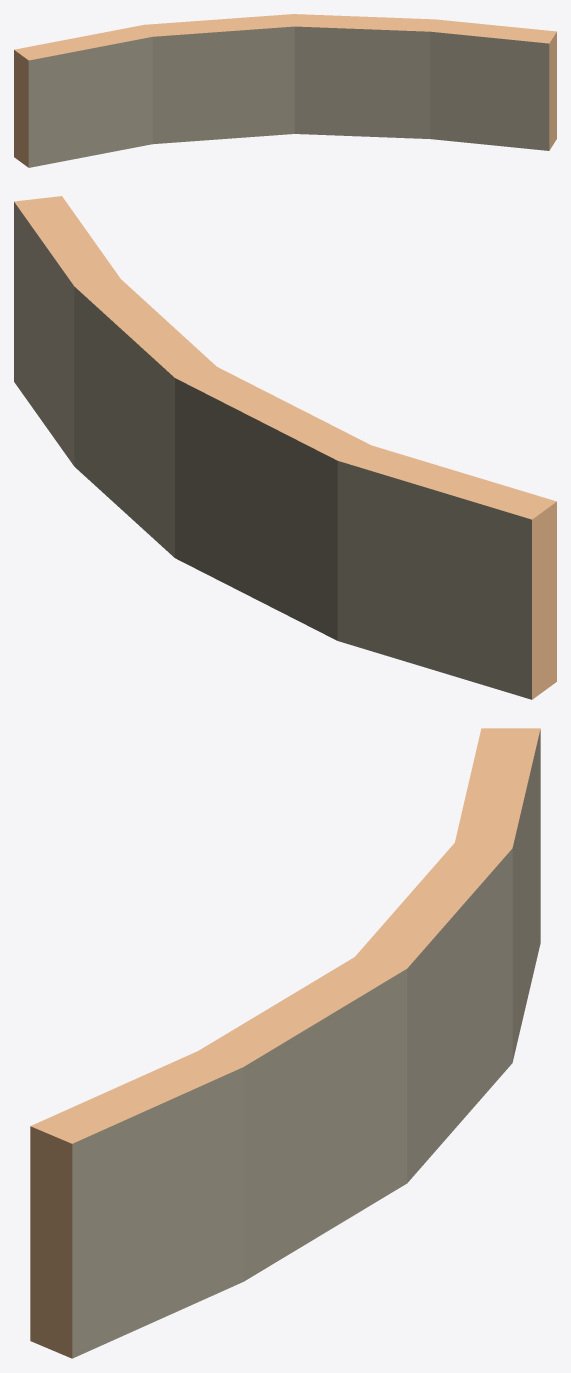
File: Tiered_Retaining_Wall_45_Degrees_Curve_Outer_3x4_Mid.glb
The picture shows the model from 3 angles, top to bottom: view 1: azimuth 30°, elevation 25°; view 2: azimuth 150°, elevation 25°; view 3: azimuth 270°, elevation 25°; orthographic projection. The views are drawn at different scales.
Visible parts, largest first — view 1: Tiered_Retaining_Wall_45_Degrees_Curve_Outer_3x4_Mid; view 2: Tiered_Retaining_Wall_45_Degrees_Curve_Outer_3x4_Mid; view 3: Tiered_Retaining_Wall_45_Degrees_Curve_Outer_3x4_Mid.
Boxes of the visible parts, x1=… form: Tiered_Retaining_Wall_45_Degrees_Curve_Outer_3x4_Mid: x1=14, y1=14, x2=556, y2=167; Tiered_Retaining_Wall_45_Degrees_Curve_Outer_3x4_Mid: x1=14, y1=196, x2=556, y2=699; Tiered_Retaining_Wall_45_Degrees_Curve_Outer_3x4_Mid: x1=30, y1=728, x2=540, y2=1358.
Size of the model in its own units: 415 by 100 by 215.
